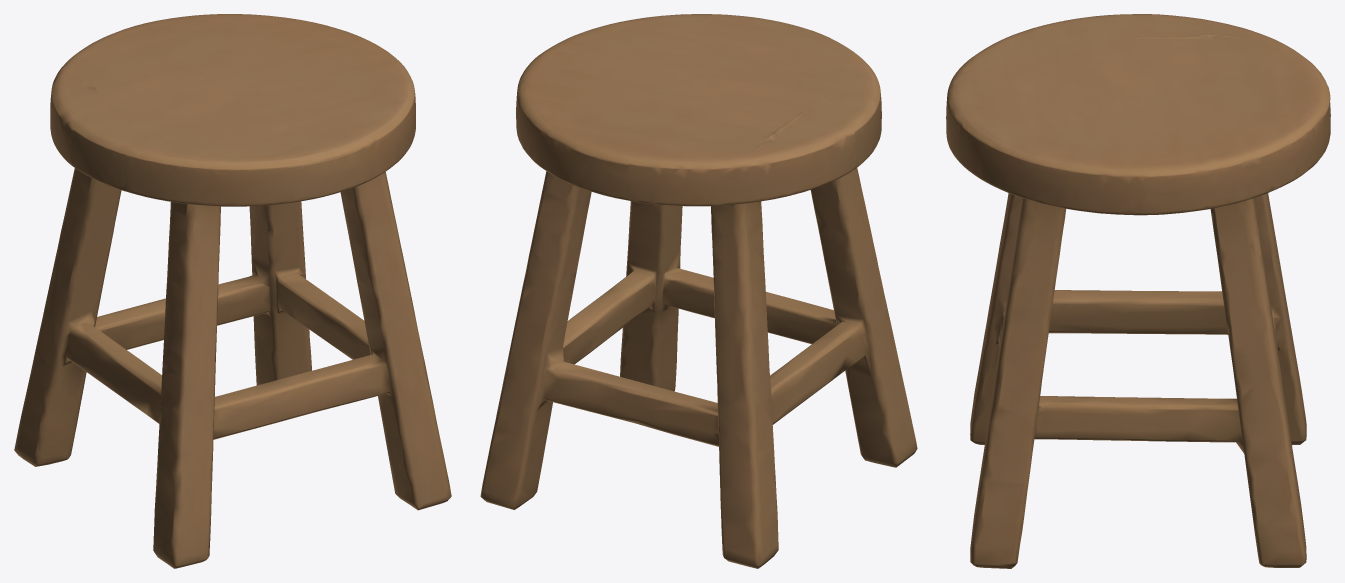
The model's file is ENV_STOOL_v001_RAW.glb.glb.
The picture shows the model from 3 angles, left to right: view 1: azimuth 30°, elevation 25°; view 2: azimuth 150°, elevation 25°; view 3: azimuth 270°, elevation 25°; orthographic projection. The views are drawn at different scales.
Parts seen in each view (by area): view 1: tripo_node_f798abbf-efac-4a80-b7af-11926402e0f1; view 2: tripo_node_f798abbf-efac-4a80-b7af-11926402e0f1; view 3: tripo_node_f798abbf-efac-4a80-b7af-11926402e0f1.
Boxes of the visible parts, box(x1,y1,x2,y2) form: tripo_node_f798abbf-efac-4a80-b7af-11926402e0f1: box(14, 14, 451, 568); tripo_node_f798abbf-efac-4a80-b7af-11926402e0f1: box(480, 14, 917, 568); tripo_node_f798abbf-efac-4a80-b7af-11926402e0f1: box(946, 14, 1330, 568).
Bounding box in the file's own units: 0.8304 × 0.9802 × 0.8309.
1 material, 1 textured.
